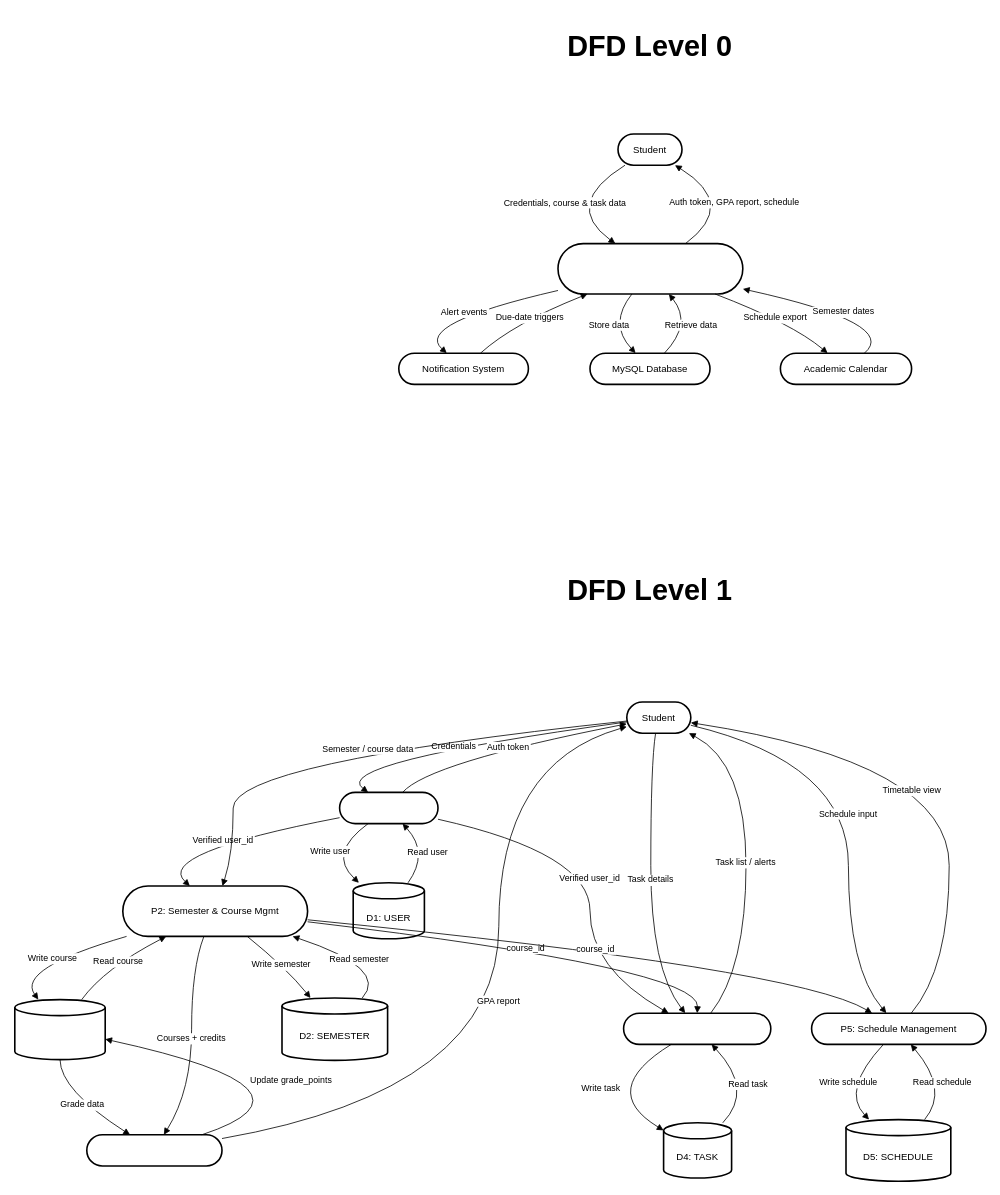
Some shapes in this 1000 by 1195 pixel diagram are drawn without their labels. Here are the shapes that lost their labels. From the top down, the centre of each, then its label:
At (x=650, y=268): "Process 0 Study Planner & GPA Tracker".
At (x=388, y=807): "P1: User Auth".
At (x=60, y=1029): "D3: COURSE".
At (x=696, y=1028): "P3: Task Management".
At (x=154, y=1150): "P4: GPA Calculation".
